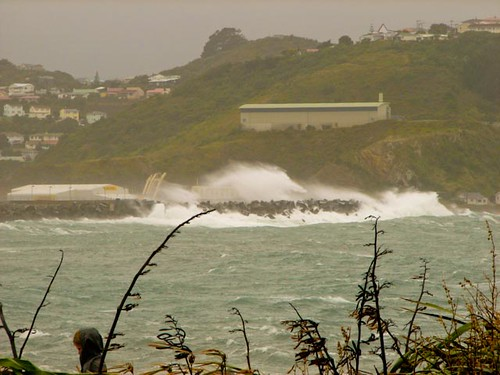building: (236, 96, 392, 132), (7, 174, 136, 208), (455, 12, 500, 32)
sea: (11, 215, 500, 365)
sky: (1, 1, 369, 48)
